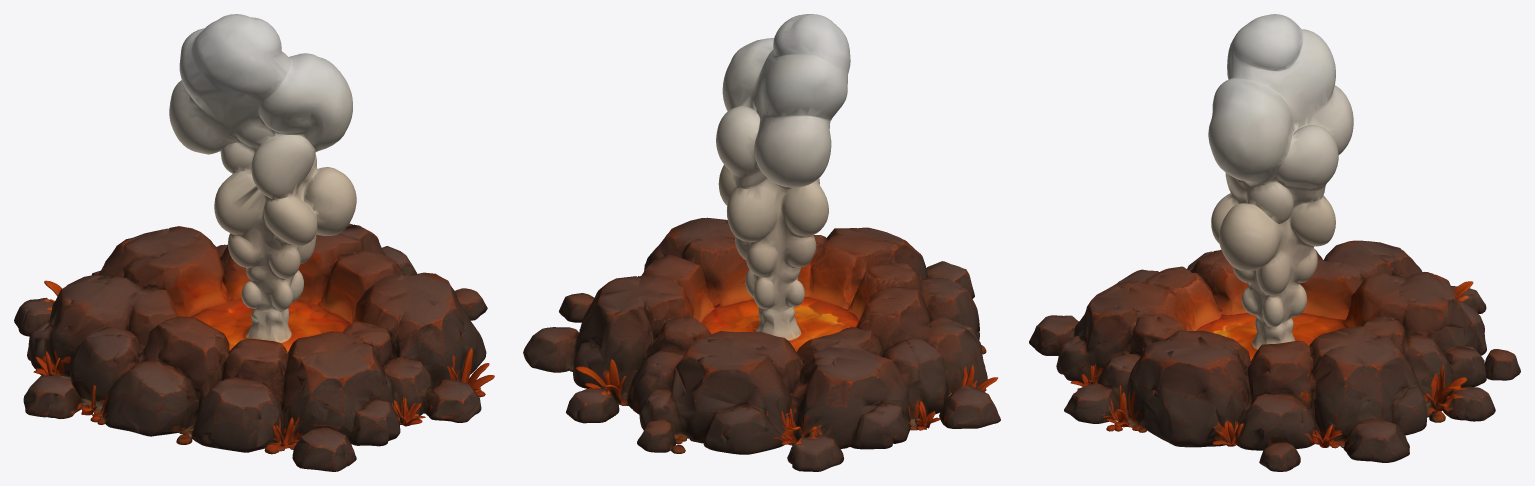
File: crater_volcanico.glb
The picture shows the model from 3 angles, left to right: view 1: azimuth 30°, elevation 25°; view 2: azimuth 150°, elevation 25°; view 3: azimuth 270°, elevation 25°; orthographic projection. The views are drawn at different scales.
Parts seen in each view (by area): view 1: crater_volcanico; view 2: crater_volcanico; view 3: crater_volcanico.
Part boxes in pixels (left/top/right/bottom): crater_volcanico: left=14, top=14, right=494, bottom=471; crater_volcanico: left=523, top=14, right=1000, bottom=471; crater_volcanico: left=1029, top=14, right=1520, bottom=471.
Size of what is drawn, in the model's own units: 18 by 13.49 by 17.8.
1 material, 1 textured.
